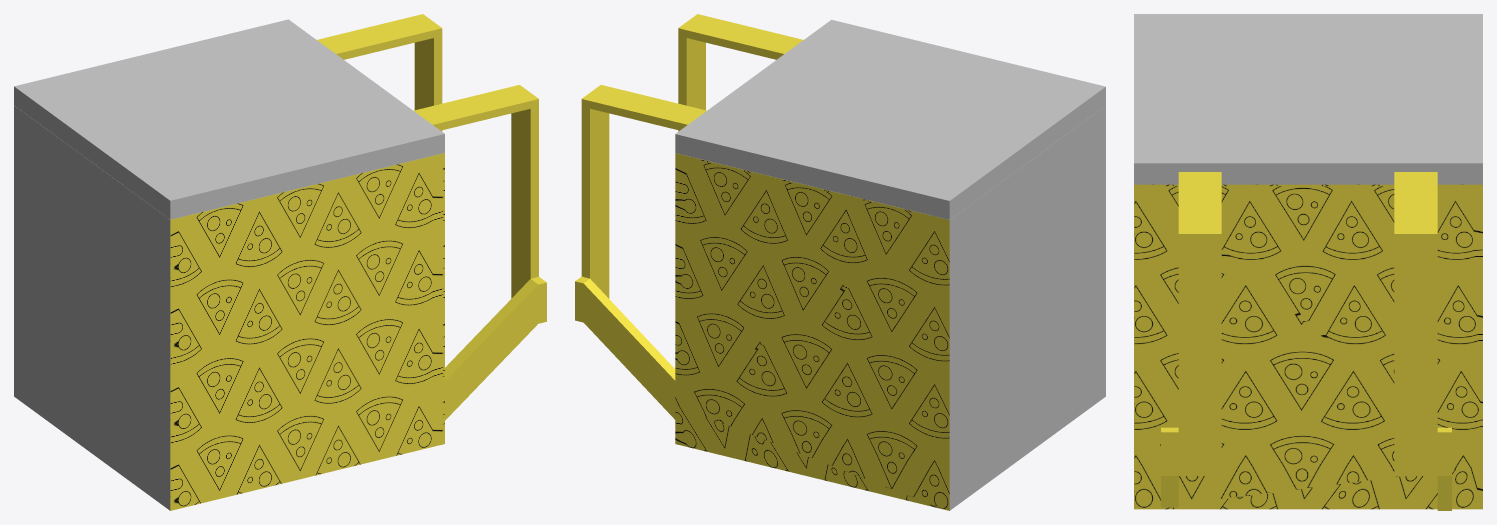
The model's file is PizzaBag.fbx.
3 views of the same model, side by side, from view 1: azimuth 30°, elevation 25°; view 2: azimuth 150°, elevation 25°; view 3: azimuth 270°, elevation 25° (orthographic). The views are drawn at different scales.
Parts seen in each view (by area): view 1: Cube.046, Cube.049, Cube.048, Cube.047; view 2: Cube.046, Cube.049, Cube.047, Cube.048; view 3: Cube.046, Cube.049, Cube.048, Cube.047.
Part boxes in pixels (x1,y1,x2,y2): Cube.046: (14, 105, 444, 510); Cube.049: (14, 19, 444, 219); Cube.048: (413, 85, 546, 420); Cube.047: (317, 14, 442, 131); Cube.046: (675, 106, 1105, 510); Cube.049: (675, 19, 1105, 219); Cube.047: (575, 85, 706, 419); Cube.048: (678, 14, 803, 131); Cube.046: (1134, 184, 1482, 509); Cube.049: (1134, 14, 1482, 184); Cube.048: (1161, 172, 1221, 507); Cube.047: (1394, 172, 1451, 510).
Size of the model in its own units: 433 by 332 by 301.
